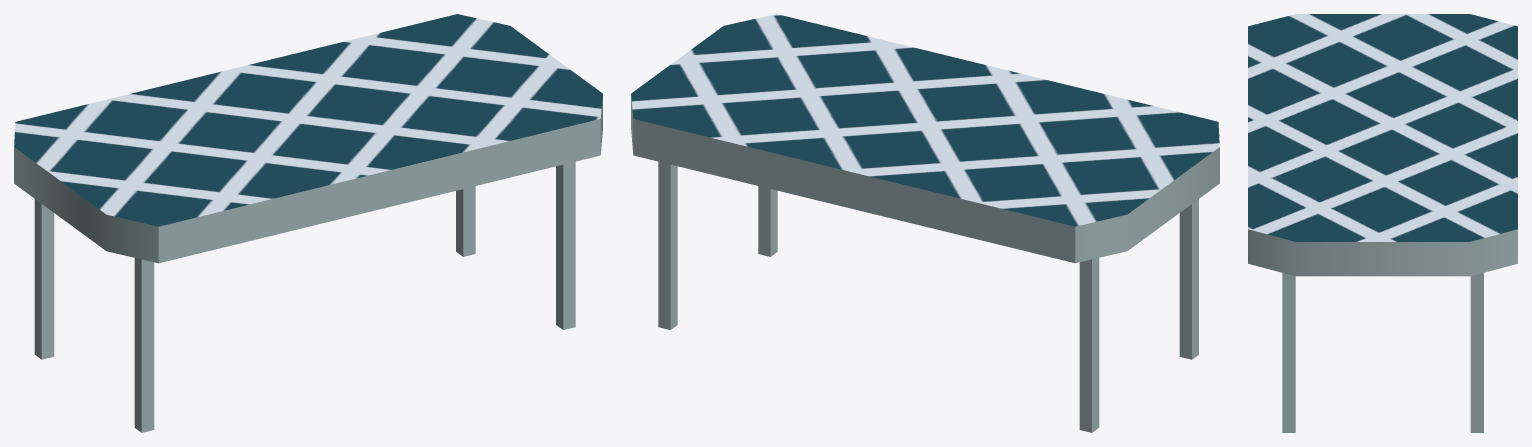
The model's file is Table.FBX.
The picture shows the model from 3 angles, left to right: view 1: azimuth 30°, elevation 25°; view 2: azimuth 150°, elevation 25°; view 3: azimuth 270°, elevation 25°; orthographic projection. The views are drawn at different scales.
Visible parts, largest first — view 1: Table_Grande; view 2: Table_Grande; view 3: Table_Grande.
Boxes of the visible parts, box(x1,y1,x2,y2) form: Table_Grande: box(14, 14, 602, 432); Table_Grande: box(631, 14, 1219, 432); Table_Grande: box(1248, 14, 1517, 432).
Size of the model in its own units: 2 by 0.8464 by 1.
